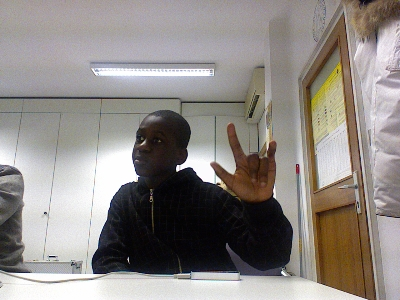我爱你: (209, 120, 277, 203)
